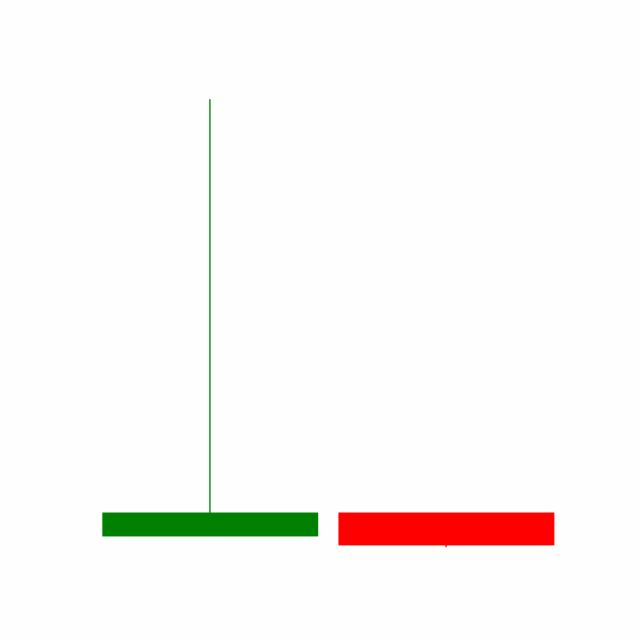Marubozu: (327, 512, 565, 548)
